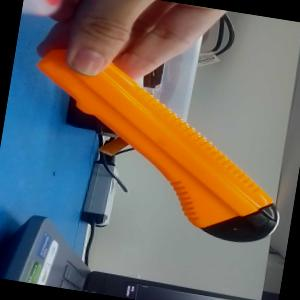estilete: (12, 45, 298, 248)
